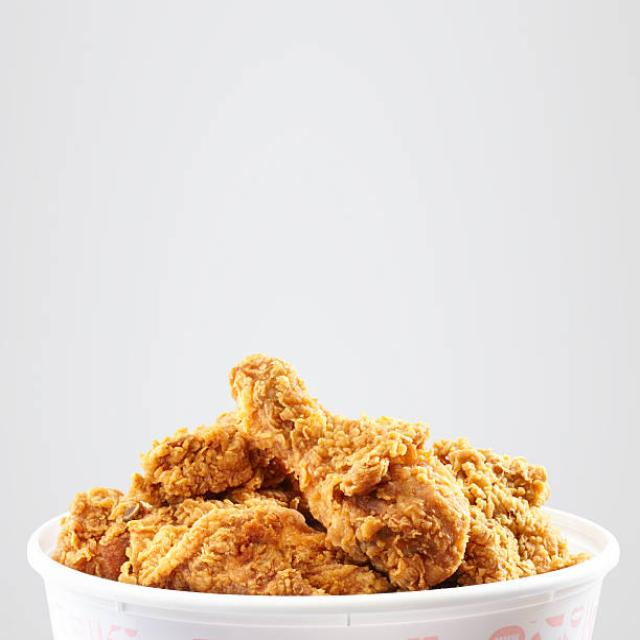Frango: (49, 354, 587, 598)
